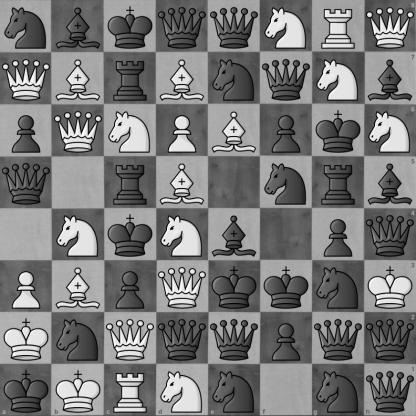B: (53, 53, 104, 104), (53, 261, 104, 312), (157, 53, 208, 104), (157, 157, 208, 208), (209, 105, 260, 156)
K: (52, 364, 104, 416), (364, 260, 416, 312), (1, 313, 52, 364)
N: (156, 364, 209, 416), (364, 104, 416, 156), (53, 209, 104, 260), (105, 105, 156, 156), (157, 209, 208, 260), (261, 1, 312, 52), (313, 53, 364, 104)
P: (1, 261, 52, 312), (157, 105, 208, 156)
Q: (364, 0, 416, 52), (1, 53, 52, 104), (53, 105, 104, 156), (105, 313, 156, 364), (157, 261, 208, 312)
R: (104, 364, 156, 416), (313, 1, 364, 52)
b: (364, 156, 416, 209), (364, 52, 416, 104), (53, 1, 104, 52), (209, 209, 260, 260)
board: (0, 0, 415, 415)
k: (0, 364, 52, 416), (105, 1, 156, 52), (105, 209, 156, 260), (209, 261, 260, 312), (261, 261, 312, 312), (313, 105, 364, 156)
n: (312, 364, 364, 416), (209, 364, 260, 416), (1, 1, 52, 52), (53, 313, 104, 364), (209, 53, 260, 104), (261, 157, 312, 208), (313, 261, 364, 312)
p: (1, 105, 52, 156), (105, 261, 156, 312), (261, 105, 312, 156), (261, 313, 312, 364), (313, 209, 364, 260)
q: (364, 312, 416, 364), (364, 364, 416, 416), (364, 209, 416, 260), (1, 157, 52, 208), (157, 1, 208, 52), (157, 313, 208, 364), (209, 1, 260, 52), (209, 313, 260, 364), (261, 53, 312, 104), (313, 313, 364, 364)
r: (105, 53, 156, 104), (105, 157, 156, 208), (313, 157, 364, 208)
